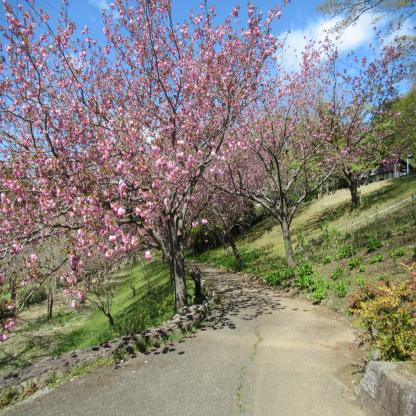YaeSakura: (0, 0, 295, 344), (220, 33, 316, 265), (313, 39, 413, 186), (203, 128, 259, 271), (189, 194, 231, 259)
